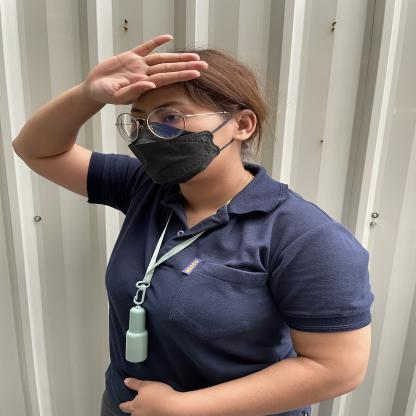Sick: (48, 23, 235, 103)
